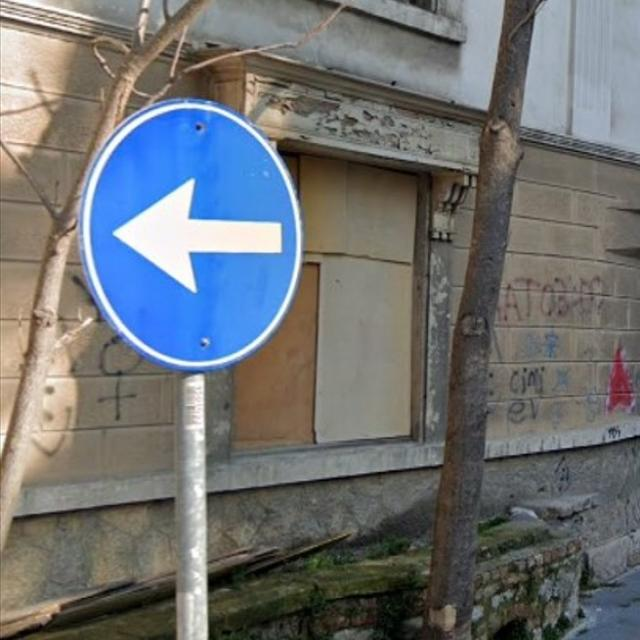Turn Left: (79, 107, 300, 367)
